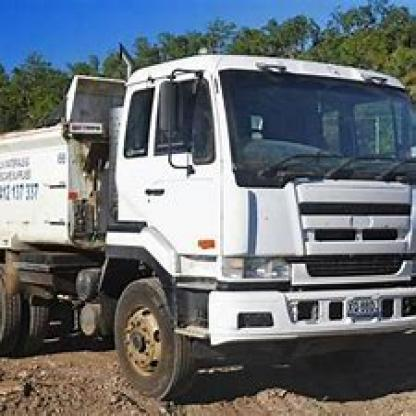dump_truck: (4, 49, 414, 394)
